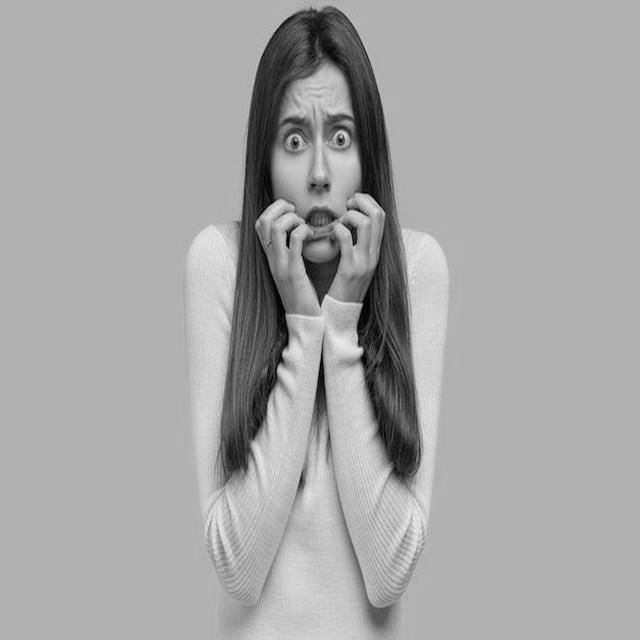Fear: (271, 65, 363, 262)
